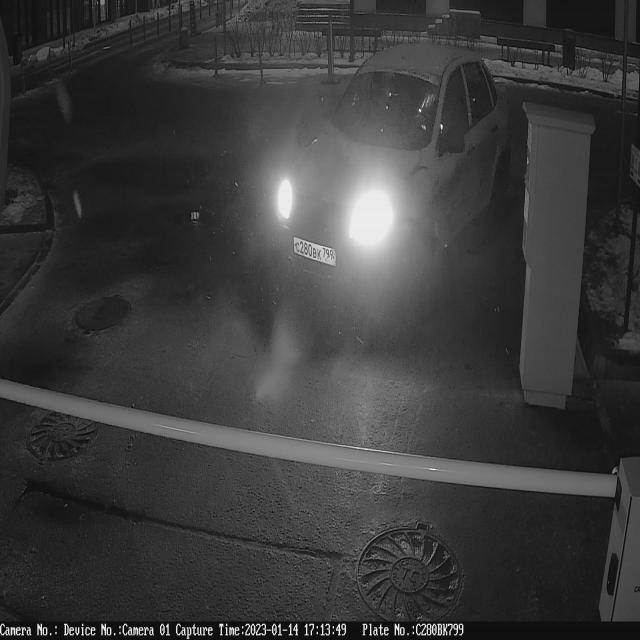car-plate-numbers: (293, 233, 338, 272)
